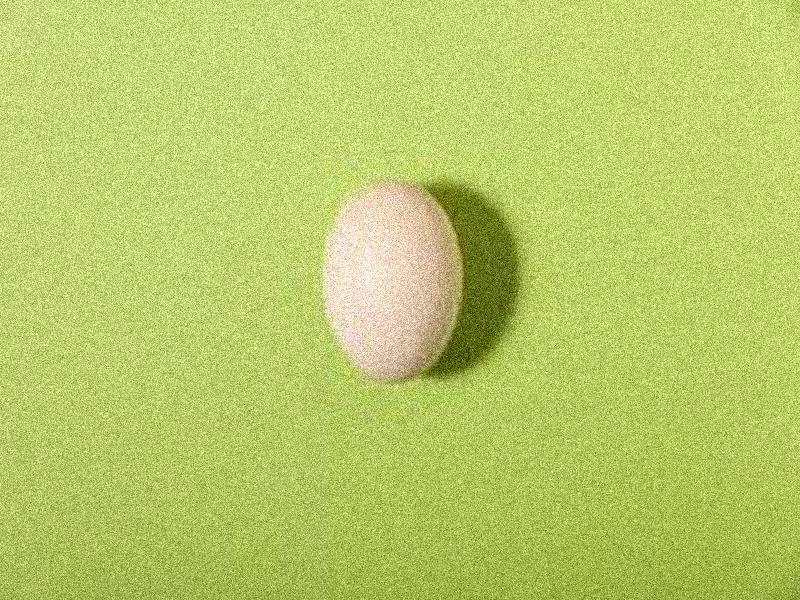Eggs: (326, 180, 463, 387)
